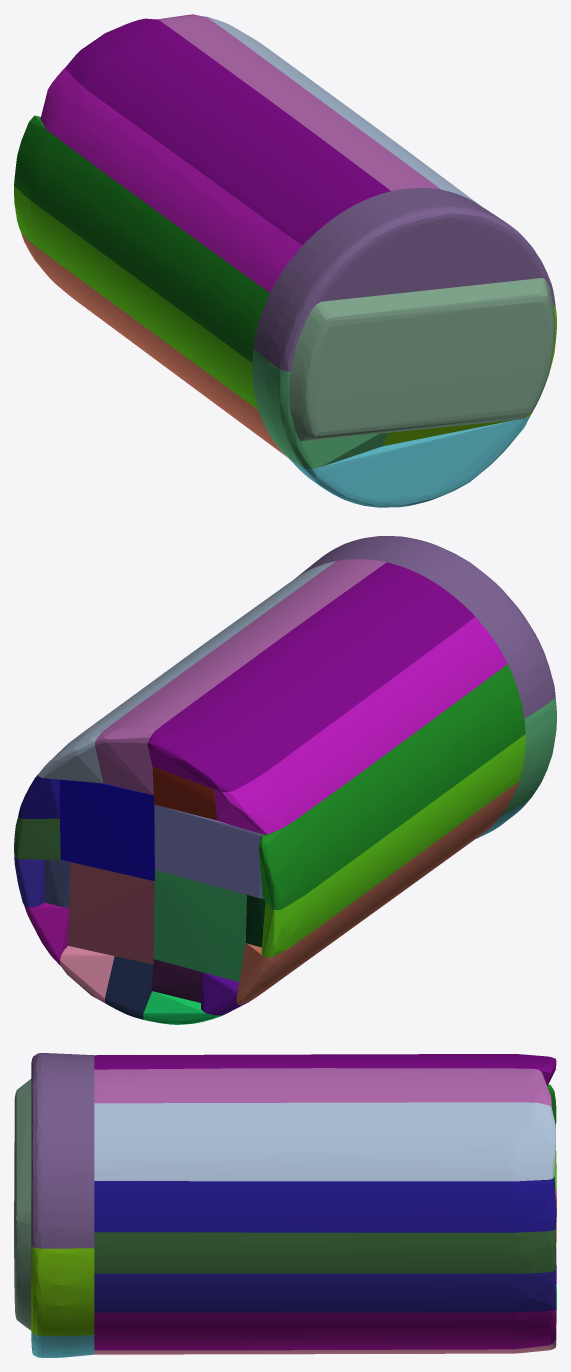
Rendered from coacd_collision.obj.
3 views of the same model, one above another, from view 1: azimuth 30°, elevation 25°; view 2: azimuth 150°, elevation 25°; view 3: azimuth 270°, elevation 25° (orthographic). The views are drawn at different scales.
Parts seen in each view (by area): view 1: geometry_0, geometry_11, geometry_1, geometry_8, geometry_22, geometry_2, geometry_17, geometry_7, geometry_9, geometry_3, geometry_6, geometry_4; view 2: geometry_11, geometry_8, geometry_22, geometry_7, geometry_17, geometry_1, geometry_10, geometry_5, geometry_9, geometry_13, geometry_12, geometry_6 (+13 smaller); view 3: geometry_6, geometry_20, geometry_19, geometry_18, geometry_14, geometry_7, geometry_1, geometry_11, geometry_4, geometry_0, geometry_24, geometry_2.
Boxes of the visible parts, <box> form: geometry_0: <box>289,278,555,441</box>; geometry_11: <box>65,18,390,245</box>; geometry_1: <box>253,188,555,371</box>; geometry_8: <box>14,115,269,362</box>; geometry_22: <box>40,67,302,292</box>; geometry_2: <box>278,415,530,507</box>; geometry_17: <box>14,186,258,409</box>; geometry_7: <box>157,14,440,190</box>; geometry_9: <box>21,232,287,457</box>; geometry_3: <box>252,348,387,468</box>; geometry_6: <box>203,16,478,204</box>; geometry_4: <box>383,305,556,445</box>; geometry_11: <box>147,562,474,791</box>; geometry_8: <box>258,664,525,909</box>; geometry_22: <box>214,616,507,834</box>; geometry_7: <box>95,559,386,795</box>; geometry_17: <box>261,734,525,957</box>; geometry_1: <box>296,536,555,718</box>; geometry_10: <box>153,870,246,981</box>; geometry_5: <box>59,779,154,881</box>; geometry_9: <box>236,781,519,1004</box>; geometry_13: <box>68,862,154,964</box>; geometry_12: <box>154,804,262,898</box>; geometry_6: <box>38,561,335,783</box>; geometry_6: <box>94,1102,555,1181</box>; geometry_20: <box>94,1177,556,1232</box>; geometry_19: <box>94,1229,555,1273</box>; geometry_18: <box>94,1270,555,1312</box>; geometry_14: <box>94,1309,556,1350</box>; geometry_7: <box>94,1068,551,1107</box>; geometry_1: <box>31,1053,94,1248</box>; geometry_11: <box>94,1054,556,1084</box>; geometry_4: <box>31,1246,94,1335</box>; geometry_0: <box>14,1079,31,1330</box>; geometry_24: <box>94,1340,556,1354</box>; geometry_2: <box>31,1332,94,1357</box>.
Size of the model in its own units: 67.85 by 68.38 by 122.
